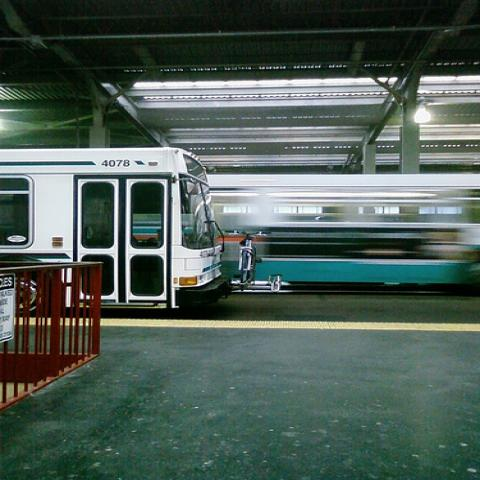bus: (0, 148, 231, 311)
